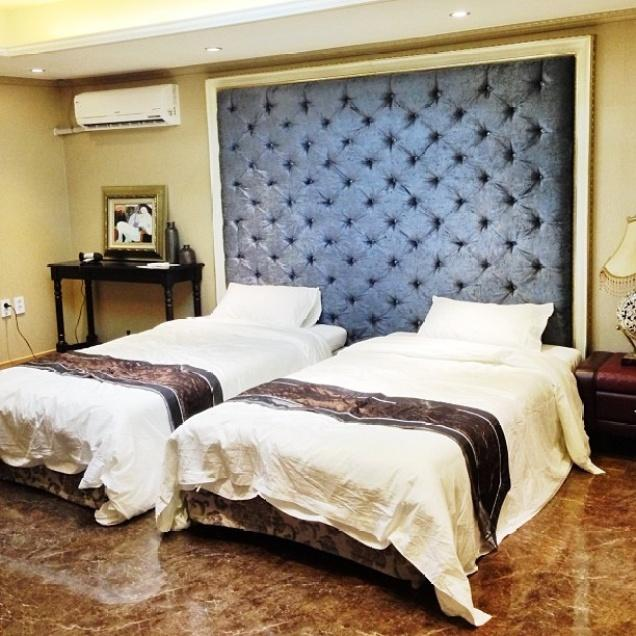AC: (73, 83, 181, 131)
Meja: (46, 256, 206, 320)
